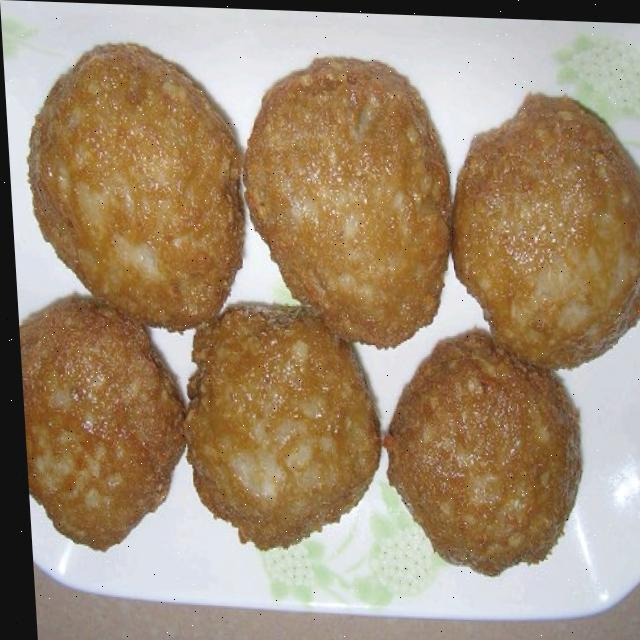猪肉菜式: (2, 12, 640, 602)
